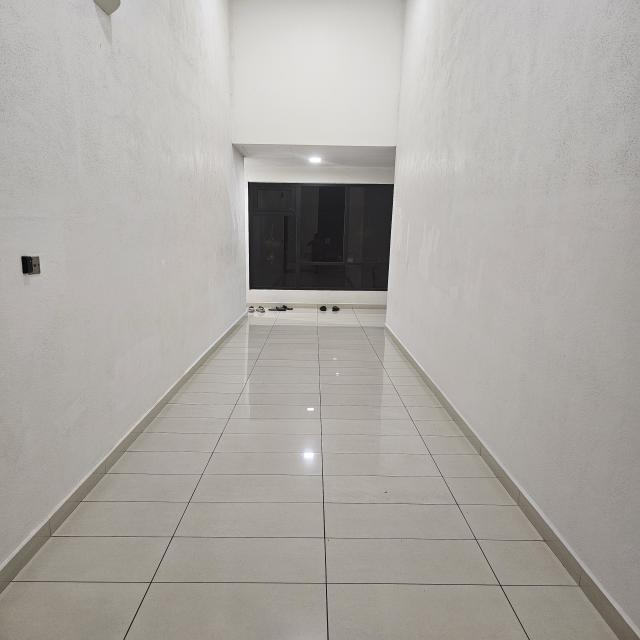footpath: (102, 400, 518, 636), (200, 317, 413, 392)
